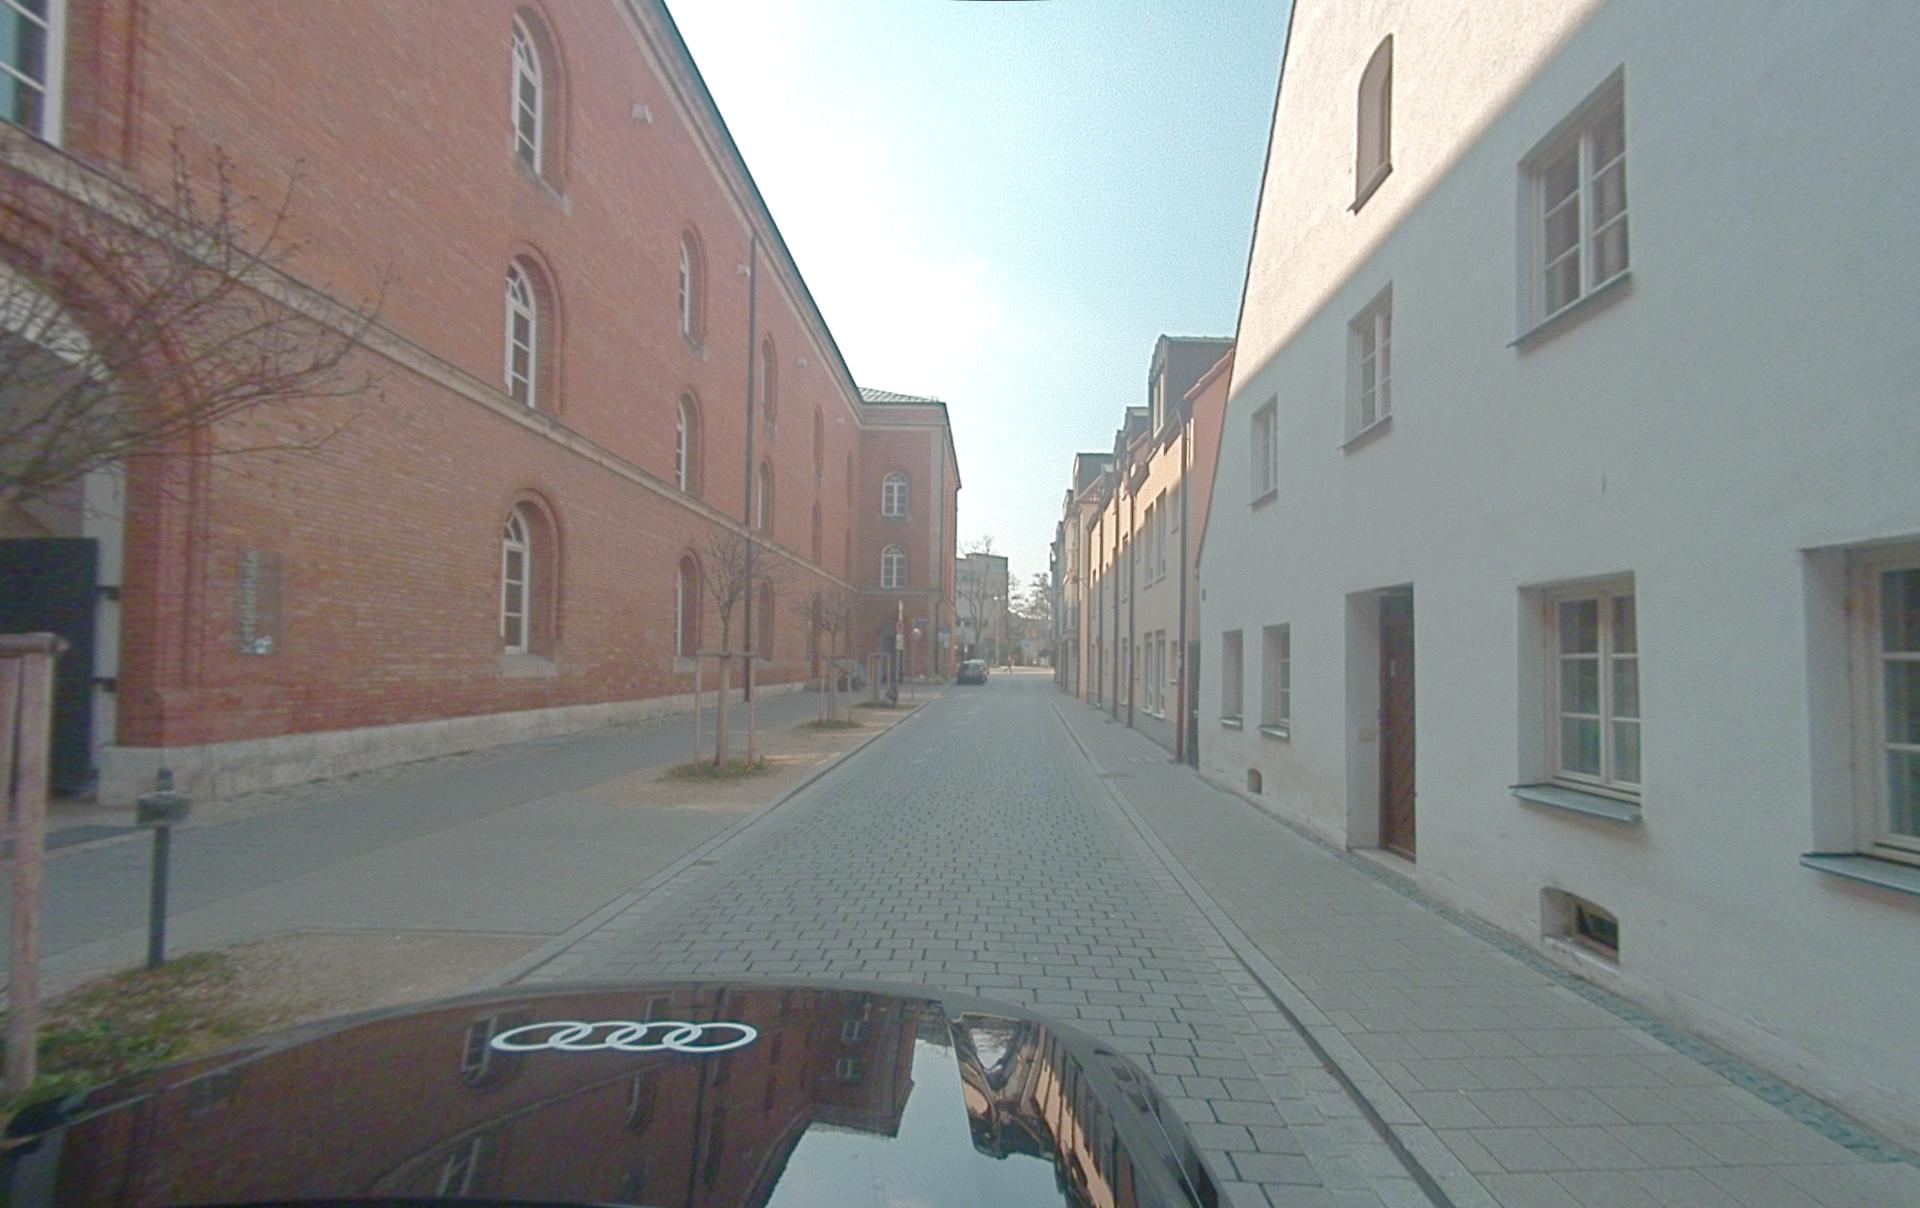car: (4, 977, 1233, 1208), (956, 658, 988, 685)
